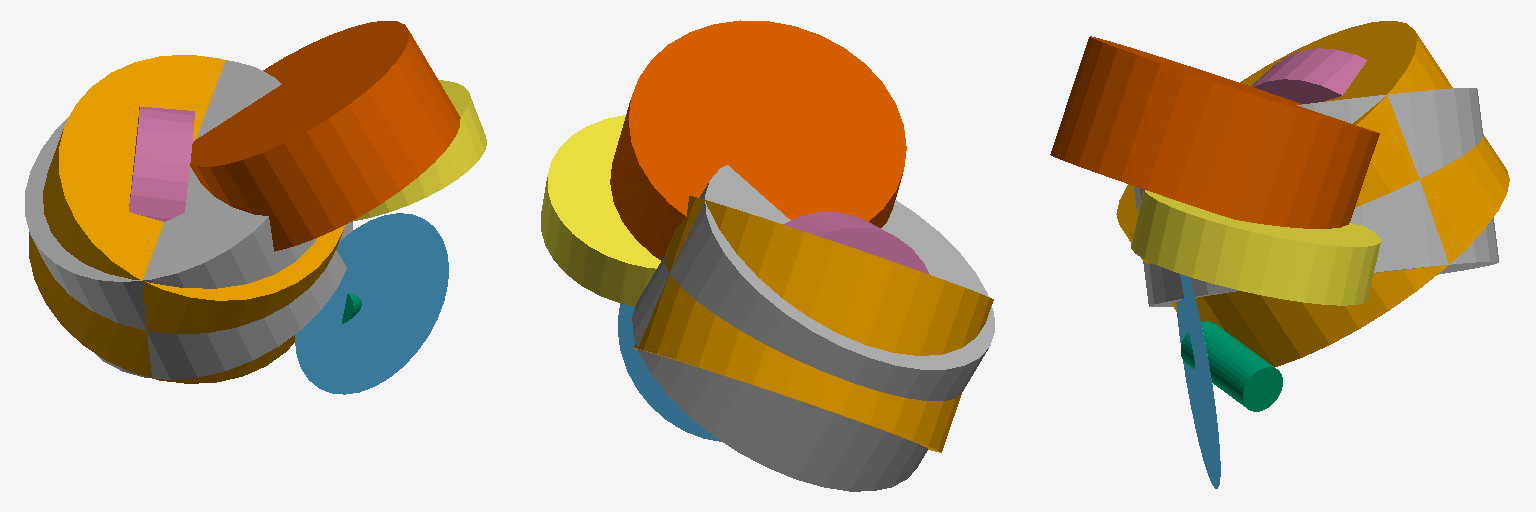
robot.urdf — pepe:
<robot name="pepe">
	<link name="0">
		<visual>
			<geometry>
				<cylinder length="0.019972807067224967" radius="0.002011686301548709"/>
			</geometry>
		</visual>
		<collision>
			<geometry>
				<cylinder length="0.019972807067224967" radius="0.002011686301548709"/>
			</geometry>
		</collision>
		<inertial>
			<mass value="2.5392735959833216e-07"/>
			<inertia ixx="0.03" iyy="0.03" izz="0.03" ixy="0" ixz="0" iyx="0"/>
		</inertial>
	</link>
	<link name="11">
		<visual>
			<geometry>
				<cylinder length="0.00018669200855736634" radius="0.6433571912630214"/>
			</geometry>
		</visual>
		<collision>
			<geometry>
				<cylinder length="0.00018669200855736634" radius="0.6433571912630214"/>
			</geometry>
		</collision>
		<inertial>
			<mass value="0.00024276156039558443"/>
			<inertia ixx="0.03" iyy="0.03" izz="0.03" ixy="0" ixz="0" iyx="0"/>
		</inertial>
	</link>
	<link name="22">
		<visual>
			<geometry>
				<cylinder length="0.5825346973094198" radius="0.1344101030337398"/>
			</geometry>
		</visual>
		<collision>
			<geometry>
				<cylinder length="0.5825346973094198" radius="0.1344101030337398"/>
			</geometry>
		</collision>
		<inertial>
			<mass value="0.03306248549946934"/>
			<inertia ixx="0.03" iyy="0.03" izz="0.03" ixy="0" ixz="0" iyx="0"/>
		</inertial>
	</link>
	<link name="53">
		<visual>
			<geometry>
				<cylinder length="0.32991061629635154" radius="0.659888503144035"/>
			</geometry>
		</visual>
		<collision>
			<geometry>
				<cylinder length="0.32991061629635154" radius="0.659888503144035"/>
			</geometry>
		</collision>
		<inertial>
			<mass value="0.45132281440264777"/>
			<inertia ixx="0.03" iyy="0.03" izz="0.03" ixy="0" ixz="0" iyx="0"/>
		</inertial>
	</link>
	<link name="74">
		<visual>
			<geometry>
				<cylinder length="0.4282506855319457" radius="0.021542928580594145"/>
			</geometry>
		</visual>
		<collision>
			<geometry>
				<cylinder length="0.4282506855319457" radius="0.021542928580594145"/>
			</geometry>
		</collision>
		<inertial>
			<mass value="0.0006243921334717215"/>
			<inertia ixx="0.03" iyy="0.03" izz="0.03" ixy="0" ixz="0" iyx="0"/>
		</inertial>
	</link>
	<link name="35">
		<visual>
			<geometry>
				<cylinder length="0.6767822617877952" radius="0.8325034157491421"/>
			</geometry>
		</visual>
		<collision>
			<geometry>
				<cylinder length="0.6767822617877952" radius="0.8325034157491421"/>
			</geometry>
		</collision>
		<inertial>
			<mass value="1.473570397274502"/>
			<inertia ixx="0.03" iyy="0.03" izz="0.03" ixy="0" ixz="0" iyx="0"/>
		</inertial>
	</link>
	<link name="46">
		<visual>
			<geometry>
				<cylinder length="0.358516004105492" radius="0.6289221186312428"/>
			</geometry>
		</visual>
		<collision>
			<geometry>
				<cylinder length="0.358516004105492" radius="0.6289221186312428"/>
			</geometry>
		</collision>
		<inertial>
			<mass value="0.4455045639168888"/>
			<inertia ixx="0.03" iyy="0.03" izz="0.03" ixy="0" ixz="0" iyx="0"/>
		</inertial>
	</link>
	<link name="87">
		<visual>
			<geometry>
				<cylinder length="0.9525721408762844" radius="0.9599301255418282"/>
			</geometry>
		</visual>
		<collision>
			<geometry>
				<cylinder length="0.9525721408762844" radius="0.9599301255418282"/>
			</geometry>
		</collision>
		<inertial>
			<mass value="2.7575728297932733"/>
			<inertia ixx="0.03" iyy="0.03" izz="0.03" ixy="0" ixz="0" iyx="0"/>
		</inertial>
	</link>
	<link name="88">
		<visual>
			<geometry>
				<cylinder length="0.9525721408762844" radius="0.9599301255418282"/>
			</geometry>
		</visual>
		<collision>
			<geometry>
				<cylinder length="0.9525721408762844" radius="0.9599301255418282"/>
			</geometry>
		</collision>
		<inertial>
			<mass value="2.7575728297932733"/>
			<inertia ixx="0.03" iyy="0.03" izz="0.03" ixy="0" ixz="0" iyx="0"/>
		</inertial>
	</link>
	<link name="69">
		<visual>
			<geometry>
				<cylinder length="0.00153756204312816" radius="0.02708229181987041"/>
			</geometry>
		</visual>
		<collision>
			<geometry>
				<cylinder length="0.00153756204312816" radius="0.02708229181987041"/>
			</geometry>
		</collision>
		<inertial>
			<mass value="3.5428547611058314e-06"/>
			<inertia ixx="0.03" iyy="0.03" izz="0.03" ixy="0" ixz="0" iyx="0"/>
		</inertial>
	</link>
	<link name="610">
		<visual>
			<geometry>
				<cylinder length="0.00153756204312816" radius="0.02708229181987041"/>
			</geometry>
		</visual>
		<collision>
			<geometry>
				<cylinder length="0.00153756204312816" radius="0.02708229181987041"/>
			</geometry>
		</collision>
		<inertial>
			<mass value="3.5428547611058314e-06"/>
			<inertia ixx="0.03" iyy="0.03" izz="0.03" ixy="0" ixz="0" iyx="0"/>
		</inertial>
	</link>
	<joint name="11_to_0" type="revolute">
		<parent link="0"/>
		<child link="11"/>
		<axis xyz="0 0 1"/>
		<limit effort="1" upper="-3.1415" lower="3.1415" velocity="1"/>
		<origin rpy="4.599220098856529 3.612390086619138 0.21865470734290898" xyz="0.6270726565351545 0.45386870664634127 0.9934344682645572"/>
	</joint>
	<joint name="22_to_11" type="revolute">
		<parent link="11"/>
		<child link="22"/>
		<axis xyz="1 0 0"/>
		<limit effort="1" upper="-3.1415" lower="3.1415" velocity="1"/>
		<origin rpy="11.626505171087503 5.516802298202429 0.7791319437868018" xyz="0.0019279200350848108 0.0005248485264476697 0.18877120123119884"/>
	</joint>
	<joint name="53_to_22" type="revolute">
		<parent link="22"/>
		<child link="53"/>
		<axis xyz="0 0 1"/>
		<limit effort="1" upper="-3.1415" lower="3.1415" velocity="1"/>
		<origin rpy="0.10051264616390823 1.3953726500600625 3.620509695951334" xyz="0.6345348520150791 0.6369416216841768 0.23249578398044024"/>
	</joint>
	<joint name="74_to_53" type="revolute">
		<parent link="53"/>
		<child link="74"/>
		<axis xyz="1 0 0"/>
		<limit effort="1" upper="-3.1415" lower="3.1415" velocity="1"/>
		<origin rpy="2.926150237106665 3.4902134344414972 2.629317776859516" xyz="0.7645397743925203 0.7419708613084566 0.4547575271281963"/>
	</joint>
	<joint name="35_to_11" type="revolute">
		<parent link="11"/>
		<child link="35"/>
		<axis xyz="0 1 0"/>
		<limit effort="1" upper="-3.1415" lower="3.1415" velocity="1"/>
		<origin rpy="15.855197879314145 4.22851677776207 0.5600087386388388" xyz="0.807546668794237 0.9347432046170919 0.26792392211434435"/>
	</joint>
	<joint name="46_to_35" type="revolute">
		<parent link="35"/>
		<child link="46"/>
		<axis xyz="0 1 0"/>
		<limit effort="1" upper="-3.1415" lower="3.1415" velocity="1"/>
		<origin rpy="6.785089119530647 2.3121756090544063 4.853502502754321" xyz="0.7134389939078161 0.9788641507588274 0.06884801253084266"/>
	</joint>
	<joint name="87_to_46" type="revolute">
		<parent link="46"/>
		<child link="87"/>
		<axis xyz="0 1 0"/>
		<limit effort="1" upper="-3.1415" lower="3.1415" velocity="1"/>
		<origin rpy="1.1237722998584785 3.348510114491183 5.698737545195735" xyz="0.06871412873716953 0.028629970202144972 0.23027762422650355"/>
	</joint>
	<joint name="88_to_46" type="revolute">
		<parent link="46"/>
		<child link="88"/>
		<axis xyz="0 1 0"/>
		<limit effort="1" upper="-3.1415" lower="3.1415" velocity="1"/>
		<origin rpy="1.6856584497877178 3.348510114491183 5.698737545195735" xyz="0.06871412873716953 0.028629970202144972 0.23027762422650355"/>
	</joint>
	<joint name="69_to_11" type="revolute">
		<parent link="11"/>
		<child link="69"/>
		<axis xyz="0 0 1"/>
		<limit effort="1" upper="-3.1415" lower="3.1415" velocity="1"/>
		<origin rpy="8.017034822677475 0.49041554351940575 3.3105613913002006" xyz="0.7252082934959747 0.33647244760358364 0.807868748932156"/>
	</joint>
	<joint name="610_to_11" type="revolute">
		<parent link="11"/>
		<child link="610"/>
		<axis xyz="0 0 1"/>
		<limit effort="1" upper="-3.1415" lower="3.1415" velocity="1"/>
		<origin rpy="10.021293528346844 0.49041554351940575 3.3105613913002006" xyz="0.7252082934959747 0.33647244760358364 0.807868748932156"/>
	</joint>
</robot>

--- Render facts (derived) ---
Views: 3 orthographic renders of the robot side by side, from view 1: azimuth 30°, elevation 25°; view 2: azimuth 150°, elevation 25°; view 3: azimuth 270°, elevation 25°.
Robot: pepe — 11 links, 10 joints (10 revolute); root link 0; default pose: every joint at zero.
Visible links, largest first — view 1: 35, 88, 87, 11, 46, 53; view 2: 35, 87, 88, 53, 46, 11; view 3: 35, 88, 53, 87, 22, 46, 11.
Boxes of the visible links, x1,y1,x2,y2 form: 35: (190, 21, 460, 251); 88: (29, 55, 344, 383); 87: (25, 60, 352, 379); 11: (295, 213, 448, 394); 46: (129, 107, 194, 221); 53: (351, 80, 486, 221); 35: (610, 20, 906, 260); 87: (632, 165, 994, 491); 88: (634, 196, 993, 452); 53: (541, 115, 660, 306); 46: (783, 212, 929, 274); 11: (618, 304, 721, 441); 35: (1050, 36, 1379, 228); 88: (1116, 21, 1509, 366); 53: (1131, 190, 1380, 305); 87: (1134, 88, 1498, 306); 22: (1181, 321, 1282, 411); 46: (1251, 48, 1366, 103); 11: (1176, 274, 1220, 488).
Size in the robot's own frame: 3.01 by 2.49 by 2.93 metres.
Geometry: primitives only (box / cylinder / sphere), no mesh files.
